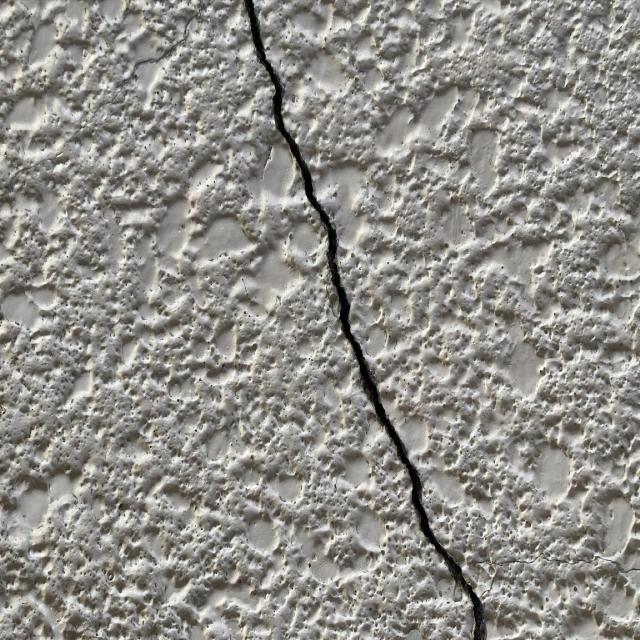SurfaceCrack: (194, 0, 539, 640)
